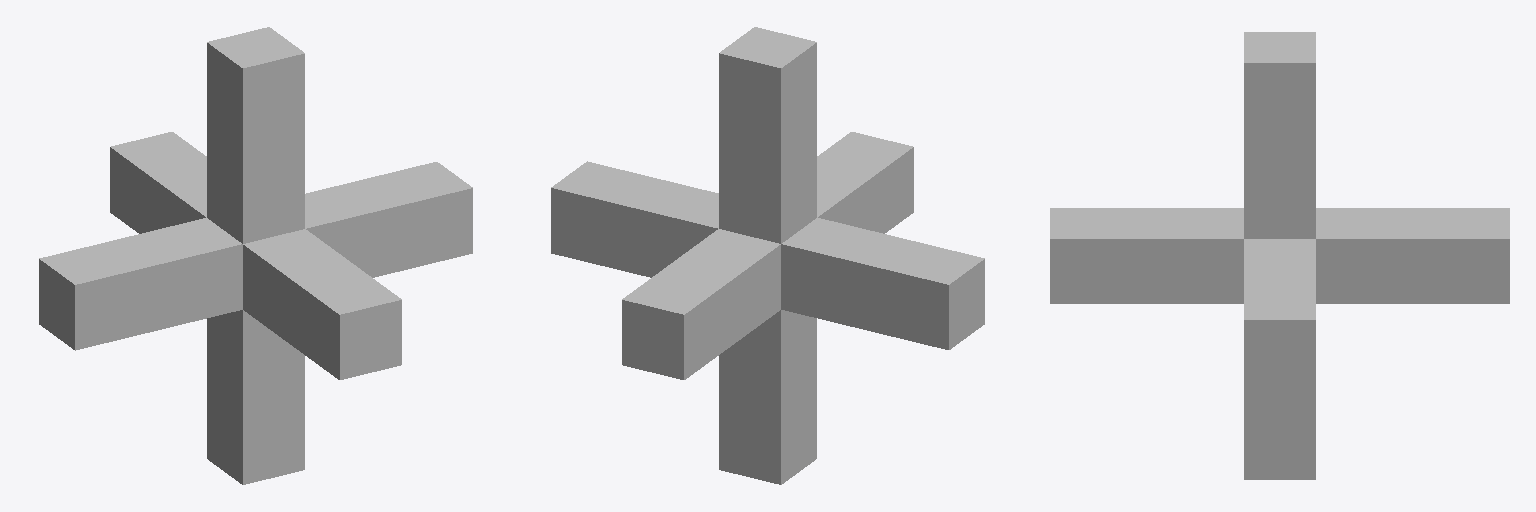
Rendered from oxygen_pipe.obj.
The picture shows the model from 3 angles: view 1: azimuth 30°, elevation 25°; view 2: azimuth 150°, elevation 25°; view 3: azimuth 270°, elevation 25°; orthographic projection.
Parts seen in each view (by area): view 1: Top, Right, Front, Bottom, Left, Back; view 2: Top, Right, Back, Bottom, Left, Front; view 3: Front, Back, Top, Left, Bottom.
Part boxes in pixels (bbox=[...]): Top: bbox=[207, 27, 304, 243]; Right: bbox=[39, 218, 242, 350]; Front: bbox=[243, 229, 401, 379]; Bottom: bbox=[207, 310, 304, 484]; Left: bbox=[305, 162, 472, 277]; Back: bbox=[110, 132, 206, 233]; Top: bbox=[719, 27, 816, 243]; Right: bbox=[781, 218, 984, 349]; Back: bbox=[622, 229, 780, 379]; Bottom: bbox=[719, 310, 816, 484]; Left: bbox=[551, 161, 718, 277]; Front: bbox=[817, 132, 913, 233]; Front: bbox=[1050, 208, 1243, 303]; Back: bbox=[1316, 208, 1509, 303]; Top: bbox=[1244, 32, 1315, 238]; Left: bbox=[1244, 239, 1315, 385]; Bottom: bbox=[1244, 386, 1315, 479].
Size of the model in its own units: 1.02 by 1.02 by 1.02.